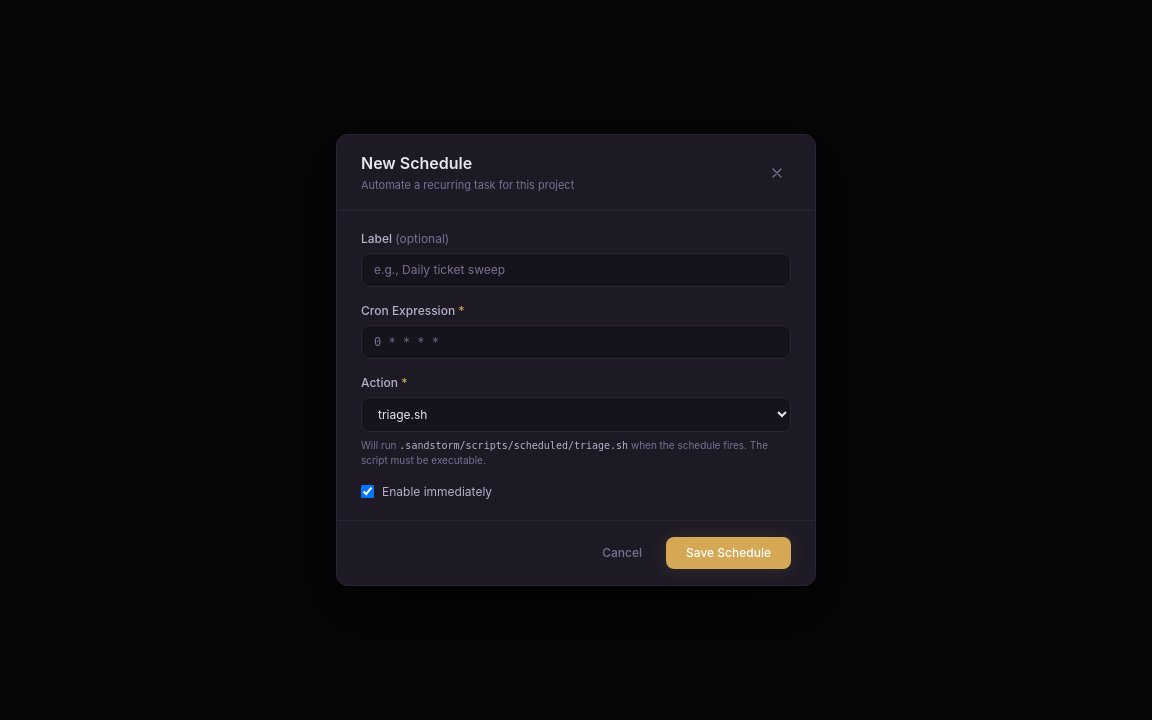
Scenario: NewScheduleModal › shows validation error for invalid cron expression
Expected: the element with test id "run-script-config" is shown, left=361, top=438, right=791, bottom=468
Type "not-valid-cron" into the field with test id "new-schedule-cron". click: (576, 342)
box: left=361, top=325, right=791, bottom=359
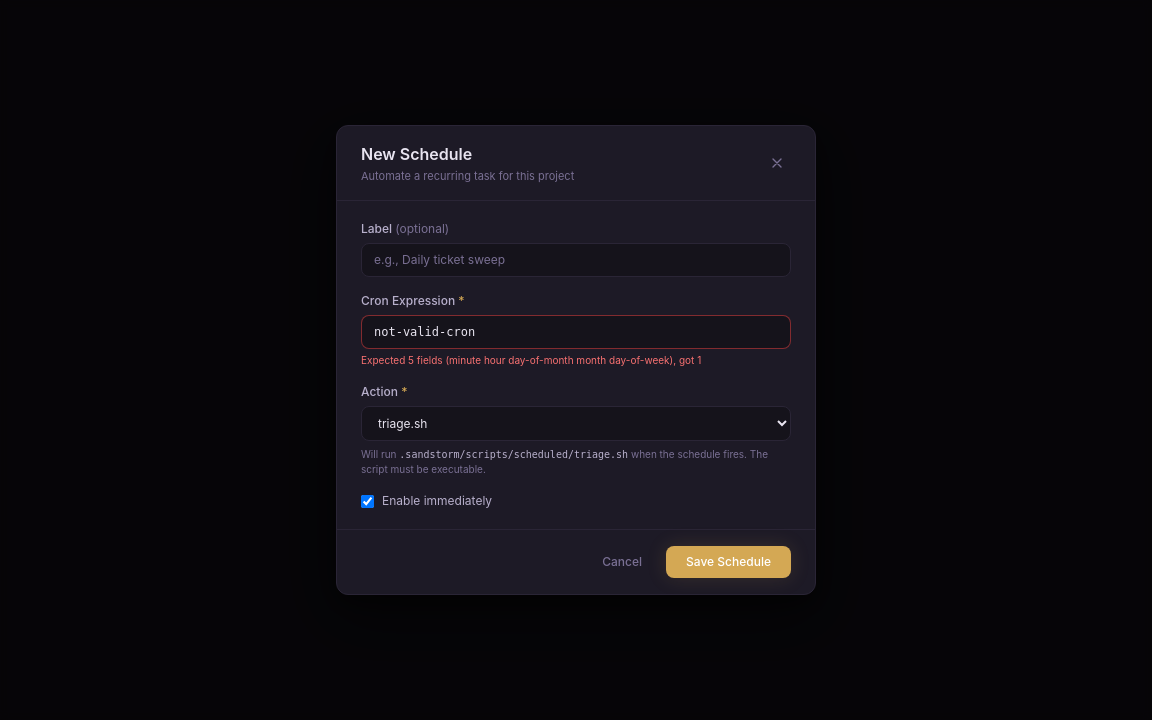
Click the button with test id "new-schedule-save-btn". click: (728, 562)
box: left=666, top=546, right=791, bottom=578
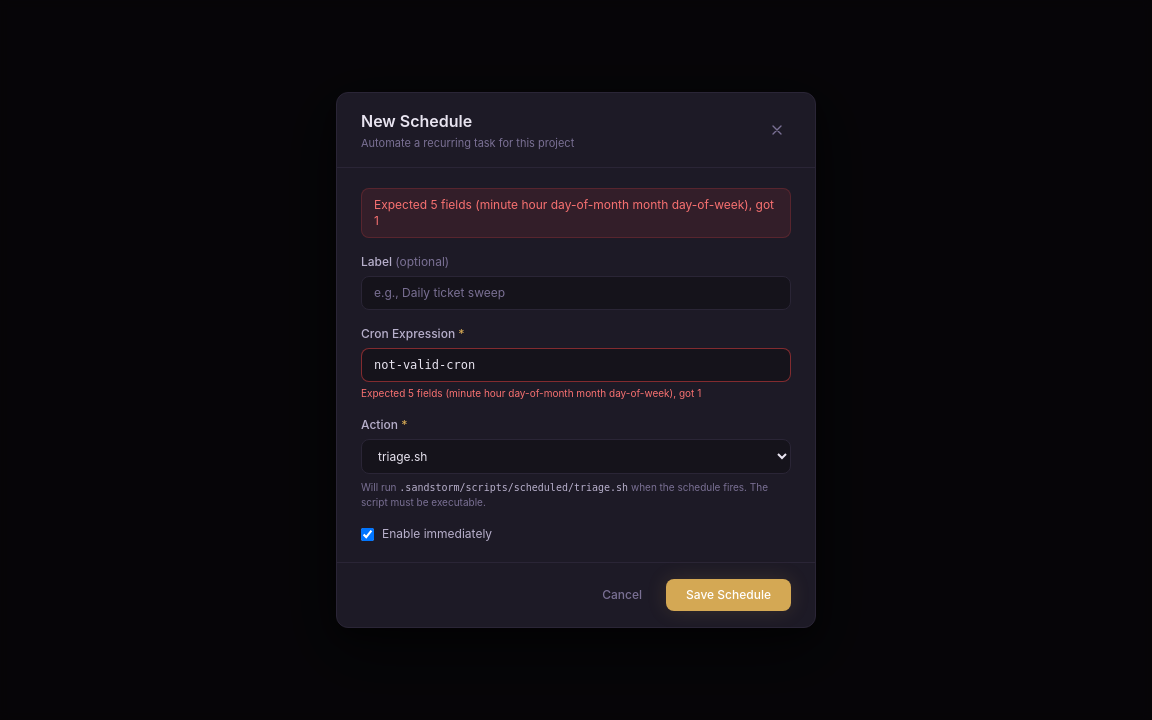
Result: the text with test id "new-schedule-error" is shown at left=361, top=188, right=791, bottom=238
